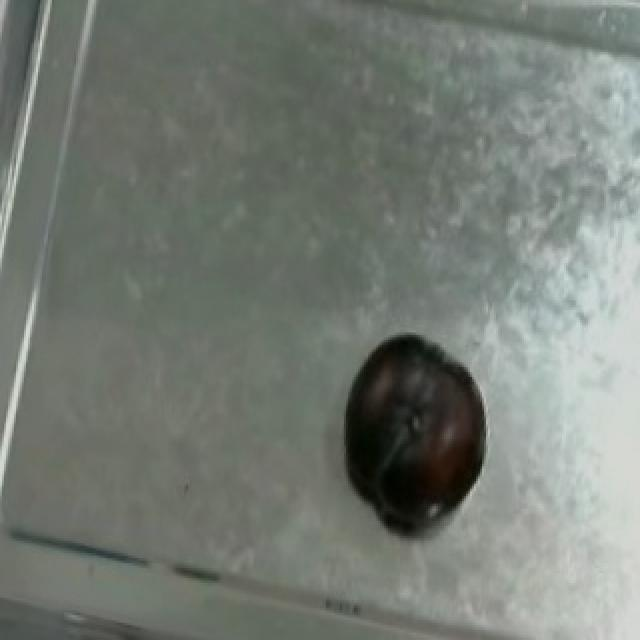Fruit: (342, 332, 490, 531)
